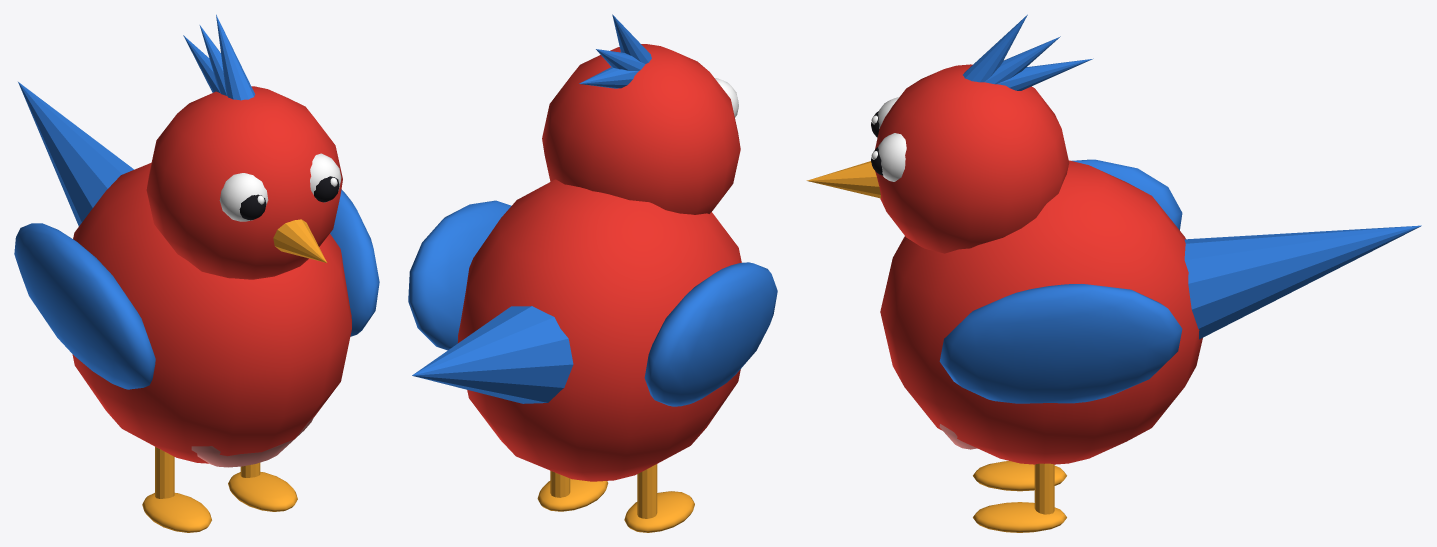
3 views of the same model, side by side, from view 1: azimuth 30°, elevation 25°; view 2: azimuth 150°, elevation 25°; view 3: azimuth 270°, elevation 25° (orthographic).
Parts seen in each view (by area): view 1: Parrot; view 2: Parrot; view 3: Parrot.
Part boxes in pixels (bbox=[...]): Parrot: bbox=[14, 14, 379, 532]; Parrot: bbox=[408, 14, 777, 532]; Parrot: bbox=[806, 14, 1421, 532].
Bounding box in the file's own units: 2.02 × 3.3 × 3.75.
1 material, 1 textured.
